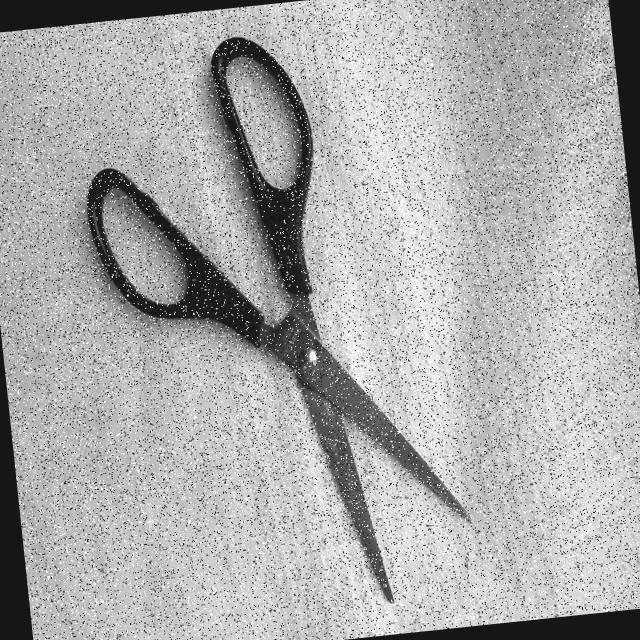scissors: (67, 9, 490, 638)
